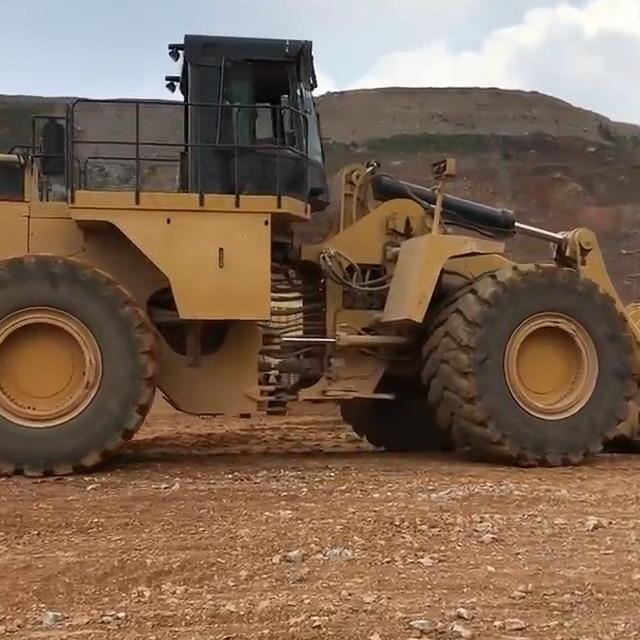wheel loader: (0, 20, 640, 477)
